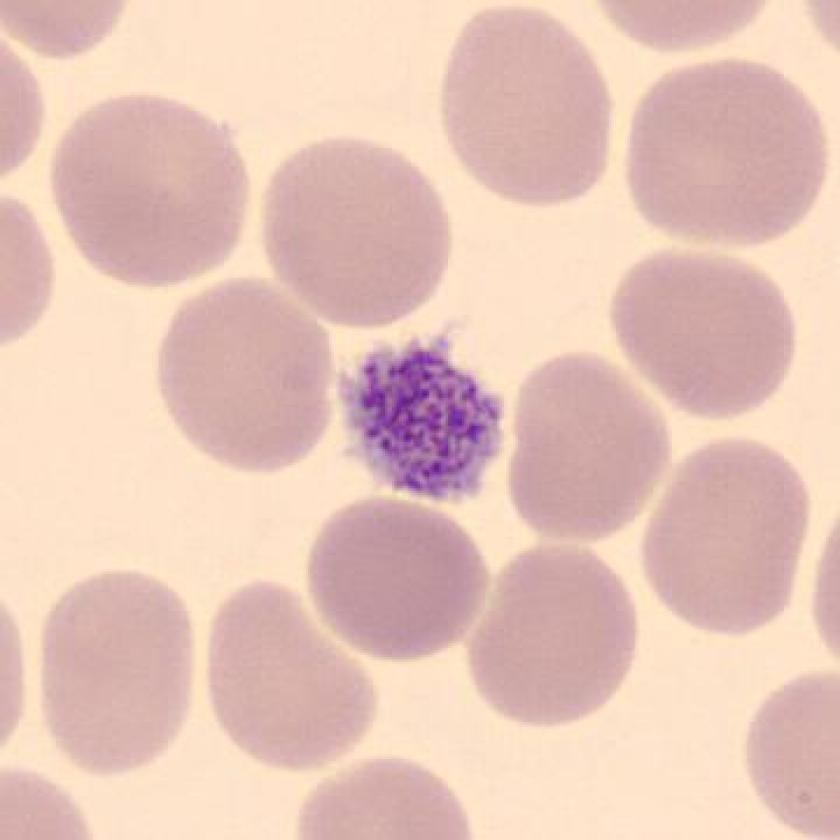platelets: (328, 318, 519, 517)
